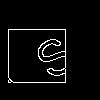S: (25, 25, 80, 82)
